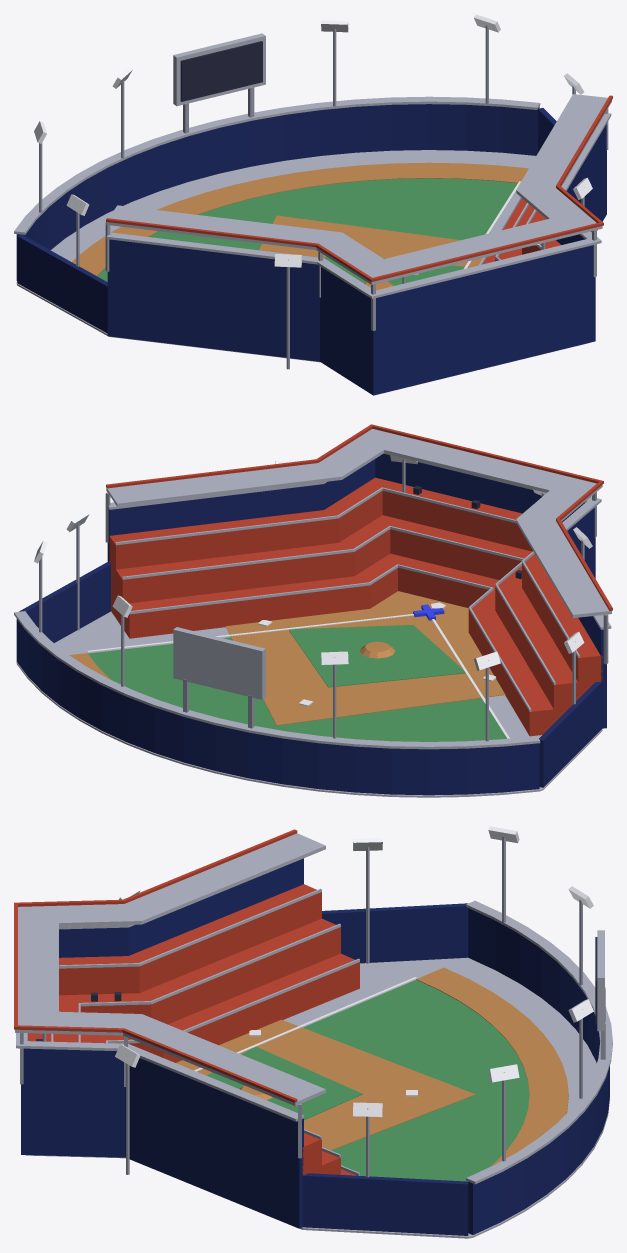
The model's file is ballpark-7x7-tone-a.glb.
3 views of the same model, one above another, from view 1: azimuth 30°, elevation 25°; view 2: azimuth 150°, elevation 25°; view 3: azimuth 270°, elevation 25° (orthographic). The views are drawn at different scales.
Parts seen in each view (by area): view 1: ballpark-7x7-tone-a; view 2: ballpark-7x7-tone-a; view 3: ballpark-7x7-tone-a.
Part boxes in pixels (x1,y1,x2,y2): ballpark-7x7-tone-a: (14, 14, 612, 395); ballpark-7x7-tone-a: (14, 424, 612, 797); ballpark-7x7-tone-a: (14, 826, 612, 1238).
Bounding box in the file's own units: 6.79 × 1.69 × 6.11.
Materials: 1 (1 with a texture image).
